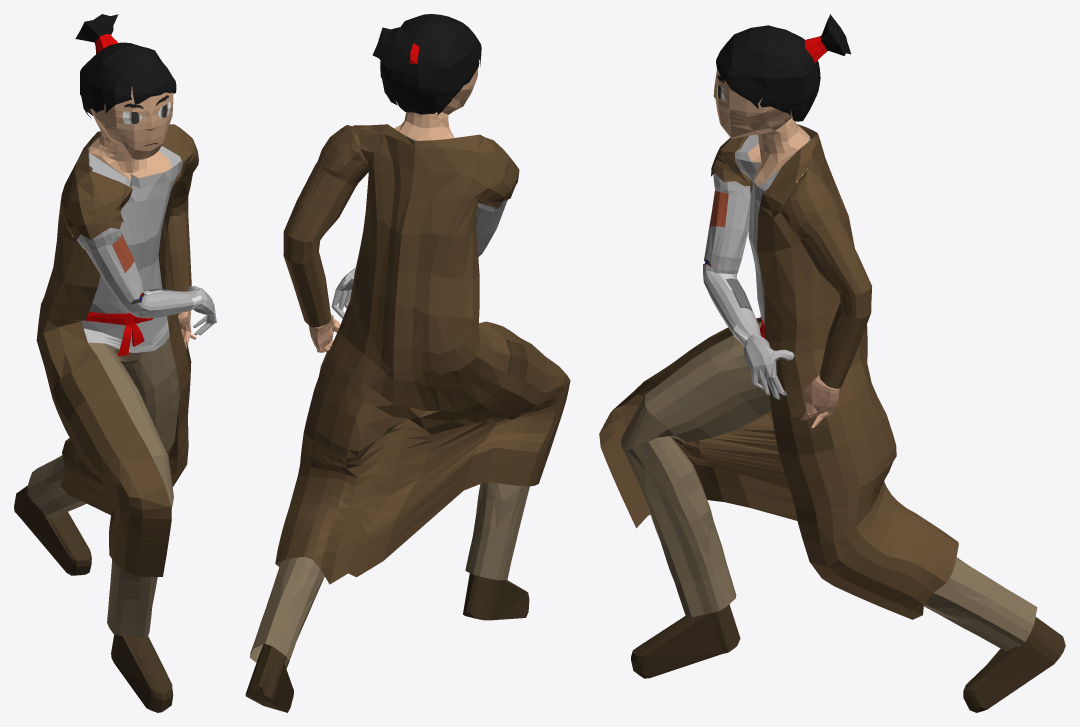
File: One_DF_000005.obj
The picture shows the model from 3 angles, left to right: view 1: azimuth 30°, elevation 25°; view 2: azimuth 150°, elevation 25°; view 3: azimuth 270°, elevation 25°; orthographic projection. The views are drawn at different scales.
Parts seen in each view (by area): view 1: Hair_Cube.004; view 2: Hair_Cube.004; view 3: Hair_Cube.004.
Part boxes in pixels (x1=…): Hair_Cube.004: x1=14, y1=14, x2=216, y2=712; Hair_Cube.004: x1=245, y1=14, x2=570, y2=712; Hair_Cube.004: x1=599, y1=14, x2=1065, y2=712.
Bounding box in the file's own units: 1.07 × 3.6 × 2.26.
